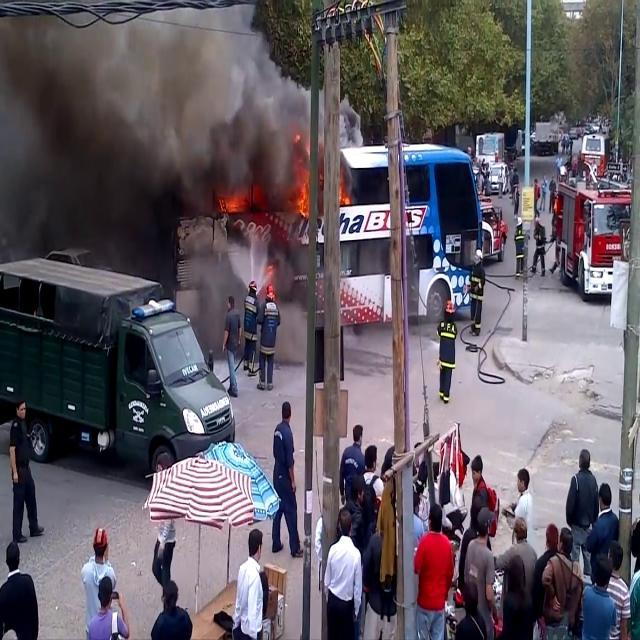Fire: (294, 140, 312, 222), (218, 185, 250, 218)
Smoke: (0, 2, 306, 248)
